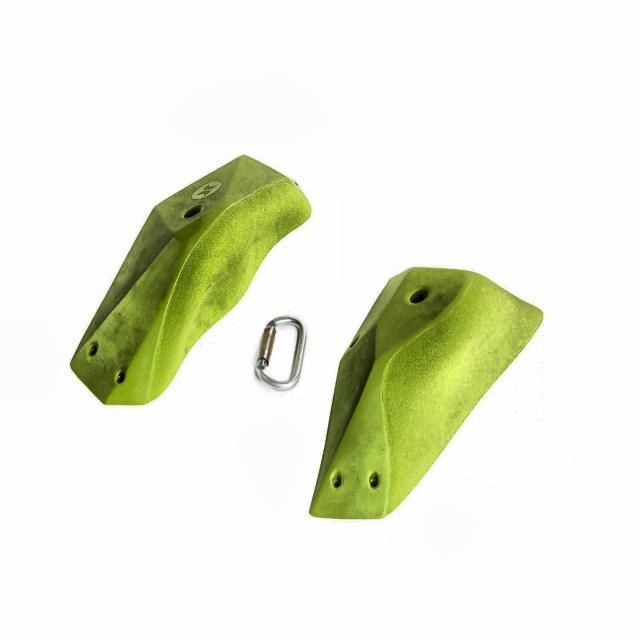Hold: (306, 253, 550, 541), (65, 148, 316, 414)
